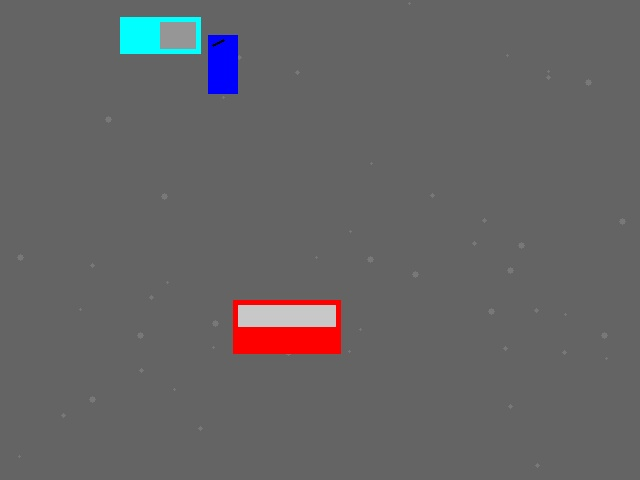car: (233, 300, 340, 353)
motorcycle: (208, 35, 237, 93)
truck: (120, 17, 200, 53)
